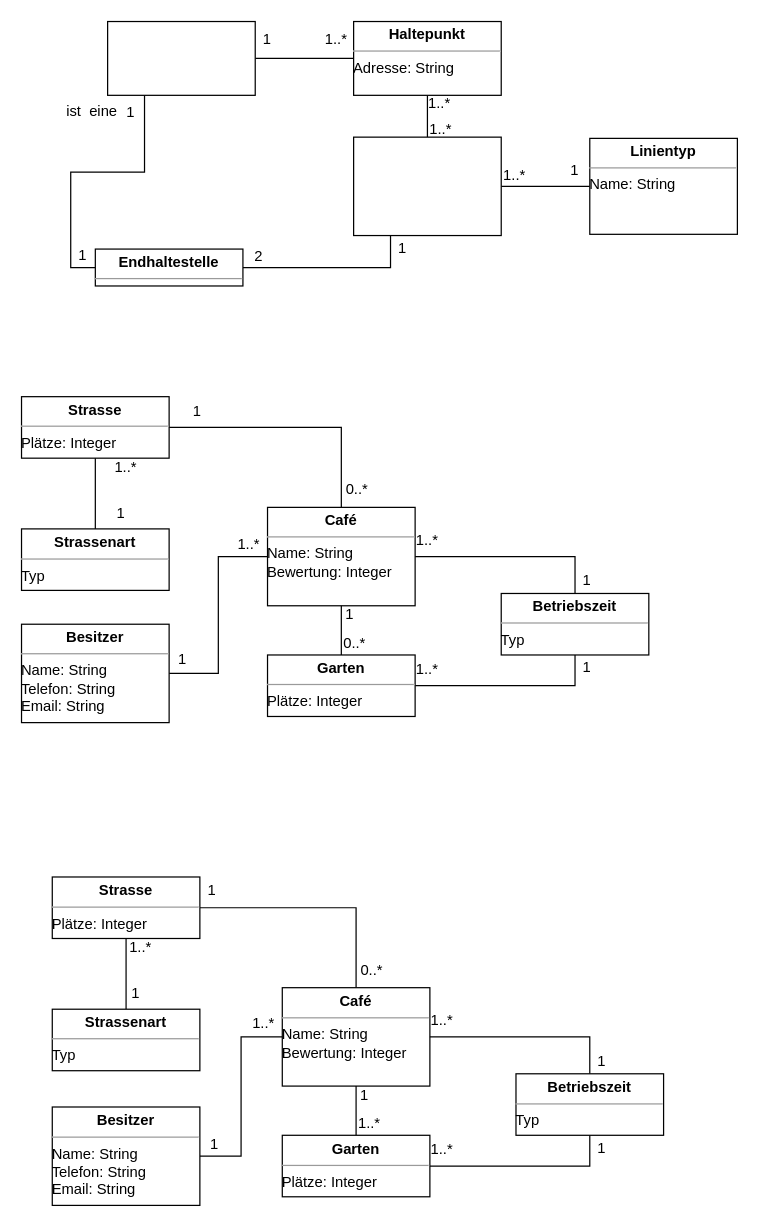
Some shapes in this 759 by 1228 pixel diagram are drawn without their labels. Here are the shapes that lost their labels. From the top down, the box of each, then its label:
(106, 20, 255, 95): Haltestelle Name: String
(352, 136, 501, 236): Linie Nummer: Integer Farbe: Color Typ: Integer
